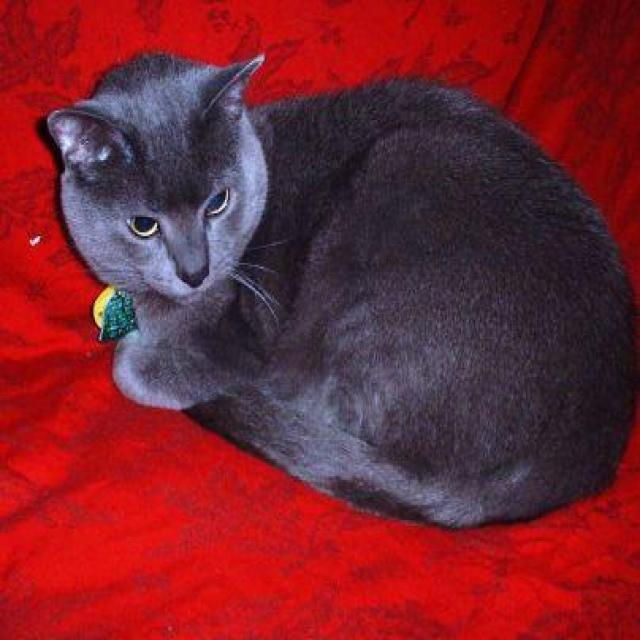left eye: (201, 185, 231, 219)
